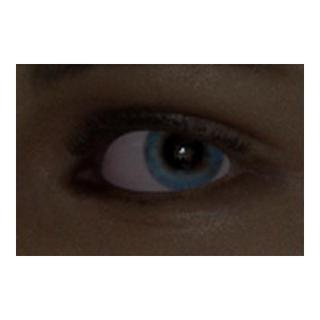pupil: (164, 131, 204, 170)
